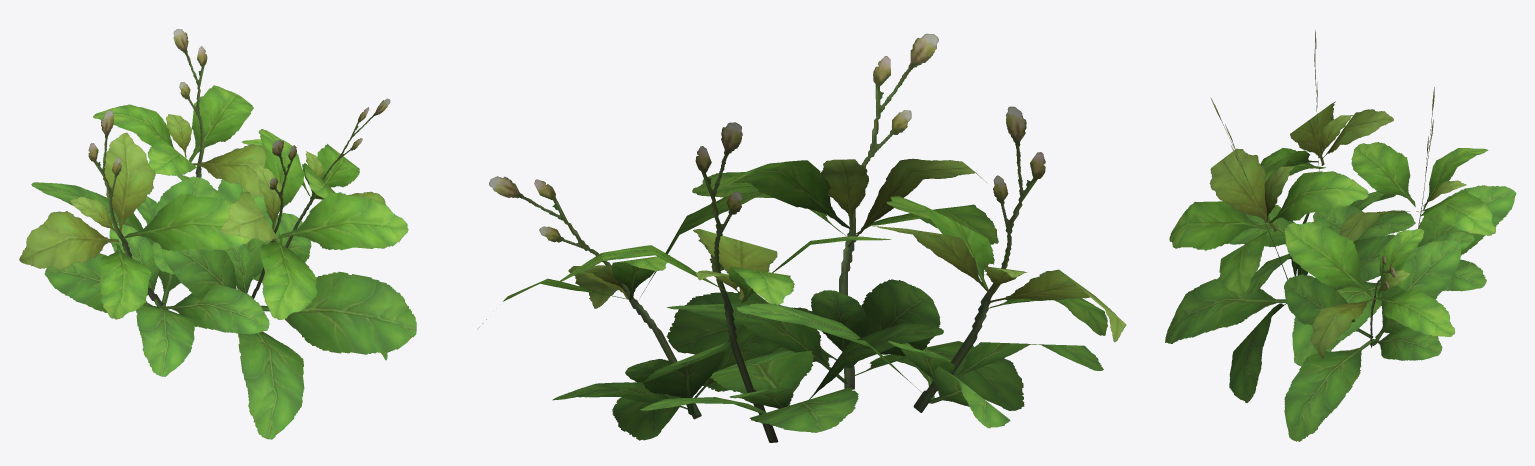
The model's file is zhiwu_05.FBX.
The picture shows the model from 3 angles, left to right: view 1: azimuth 30°, elevation 25°; view 2: azimuth 150°, elevation 25°; view 3: azimuth 270°, elevation 25°; orthographic projection. The views are drawn at different scales.
Visible parts, largest first — view 1: zhiwu_05; view 2: zhiwu_05; view 3: zhiwu_05.
Boxes of the visible parts, bbox=[...] form: zhiwu_05: bbox=[19, 29, 416, 439]; zhiwu_05: bbox=[477, 33, 1126, 442]; zhiwu_05: bbox=[1165, 30, 1516, 441].
Bounding box in the file's own units: 1.34 × 1.01 × 1.03.
